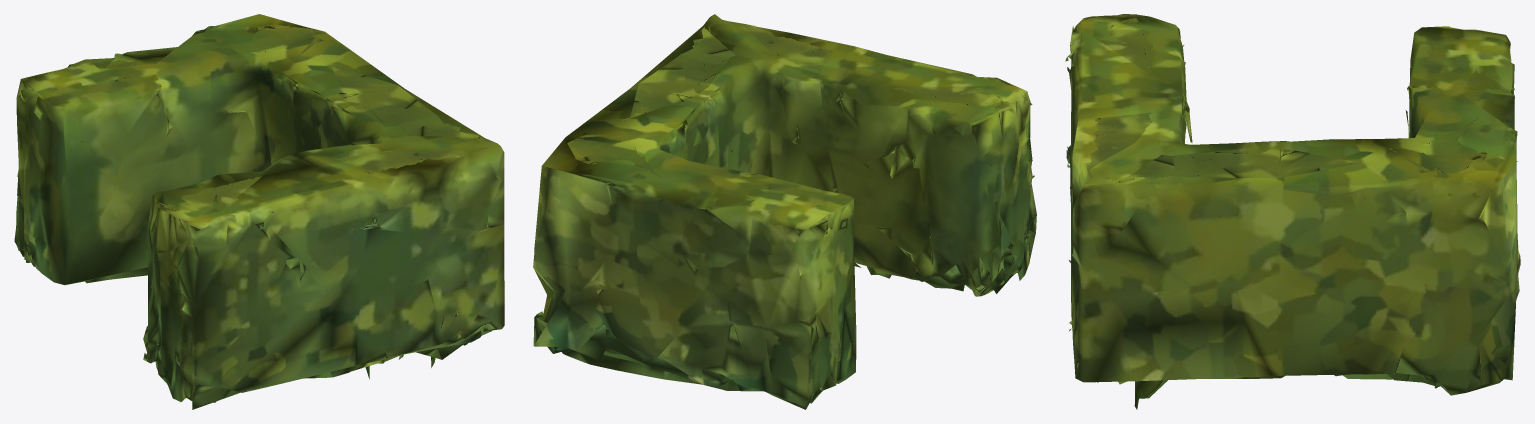
The model's file is hedge_corner.glb.
3 views of the same model, side by side, from view 1: azimuth 30°, elevation 25°; view 2: azimuth 150°, elevation 25°; view 3: azimuth 270°, elevation 25° (orthographic). The views are drawn at different scales.
Visible parts, largest first — view 1: tripo_node_6fff3439-1381-4108-8206-9d43b74a754d; view 2: tripo_node_6fff3439-1381-4108-8206-9d43b74a754d; view 3: tripo_node_6fff3439-1381-4108-8206-9d43b74a754d.
Part boxes in pixels (left/top/right/bottom): tripo_node_6fff3439-1381-4108-8206-9d43b74a754d: left=14, top=14, right=504, bottom=409; tripo_node_6fff3439-1381-4108-8206-9d43b74a754d: left=533, top=14, right=1036, bottom=409; tripo_node_6fff3439-1381-4108-8206-9d43b74a754d: left=1065, top=14, right=1520, bottom=409.
Bounding box in the file's own units: 0.9059 × 0.6016 × 0.9918.
1 material, 1 textured.
